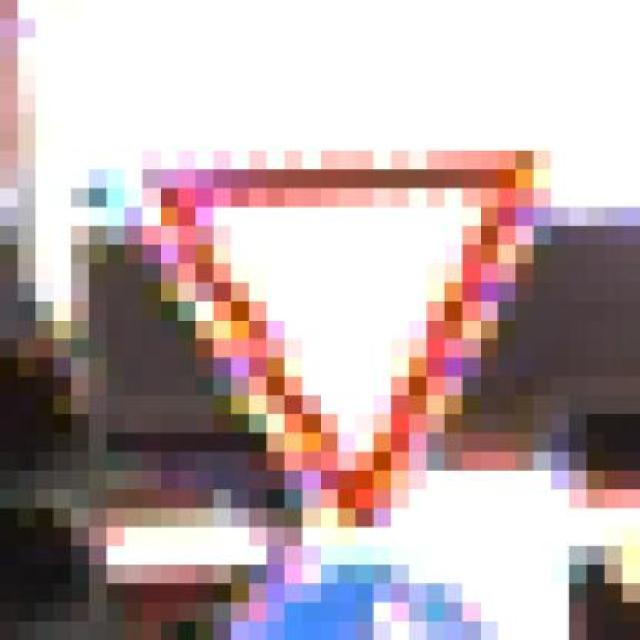Give Way: (106, 112, 569, 565)
